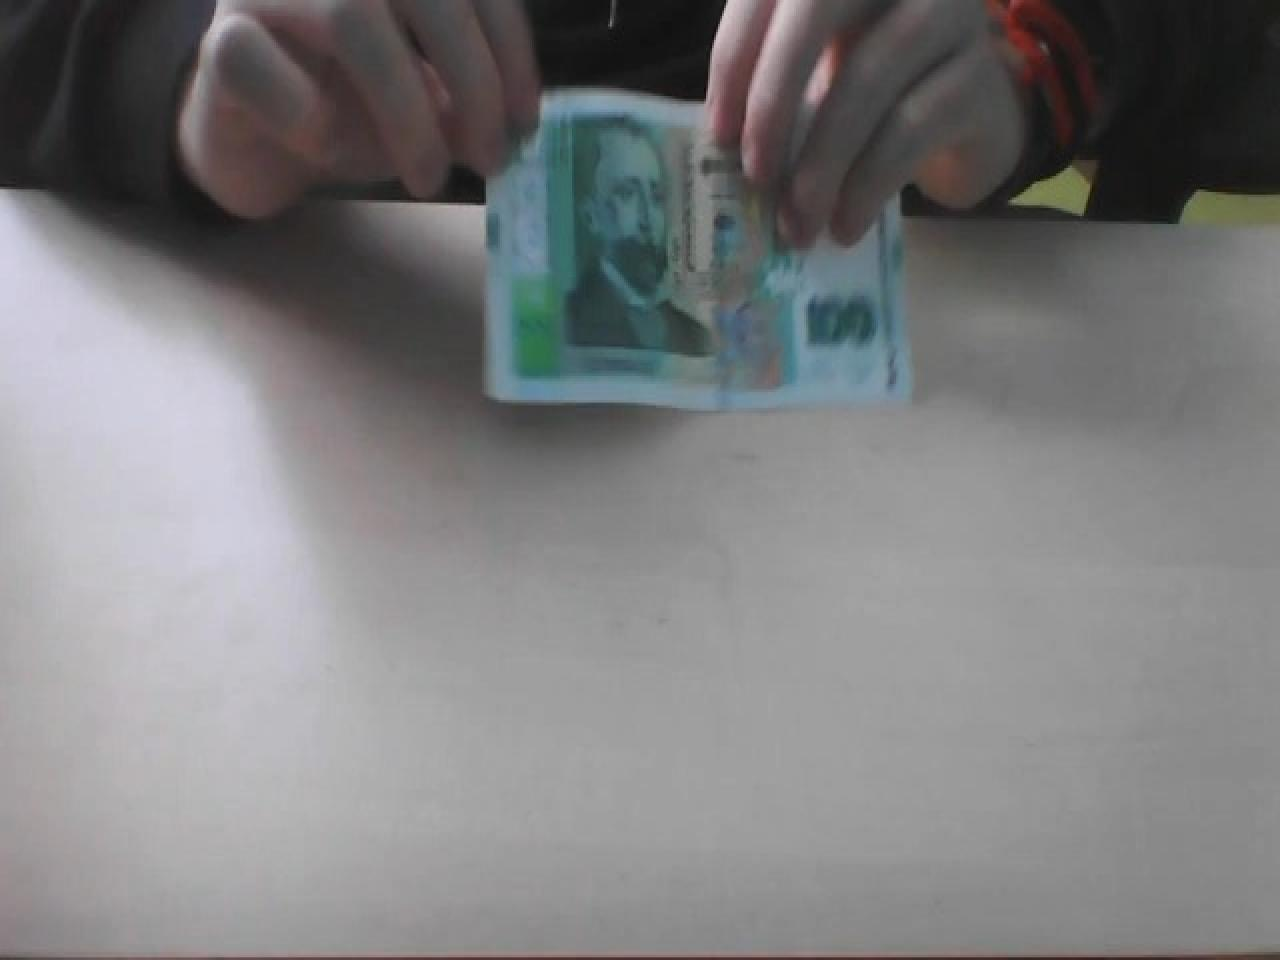100leva: (482, 86, 916, 416)
